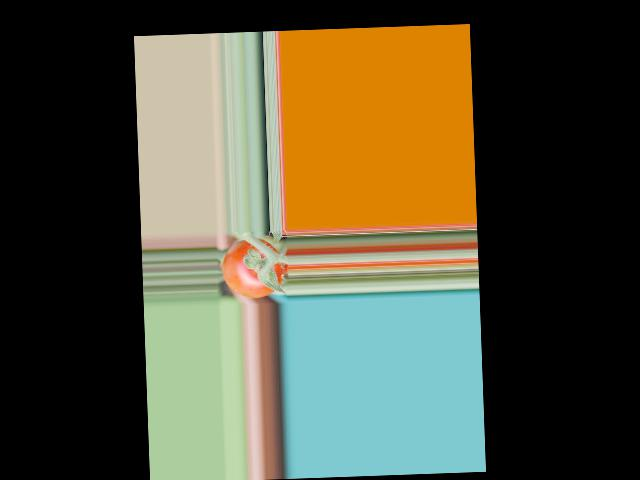tomato: (221, 237, 288, 299)
